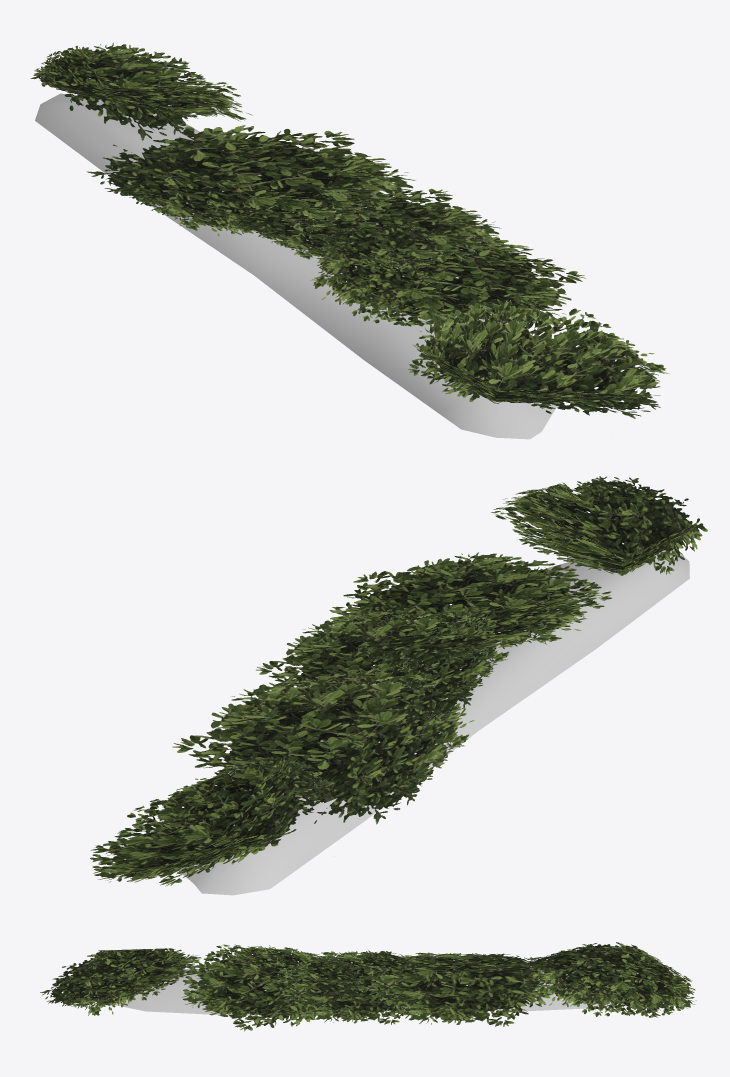
Rendered from planthedge_03.fbx.
3 renders of one model, top to bottom at view 1: azimuth 30°, elevation 25°; view 2: azimuth 150°, elevation 25°; view 3: azimuth 270°, elevation 25°, orthographic. The views are drawn at different scales.
Visible parts, largest first — view 1: planthedge_03; view 2: planthedge_03; view 3: planthedge_03.
Part boxes in pixels (x1,y1,x2,y2): planthedge_03: [30, 42, 669, 439]; planthedge_03: [90, 476, 707, 895]; planthedge_03: [40, 942, 696, 1031].
Bounding box in the file's own units: 0.6425 × 0.1159 × 1.72.
